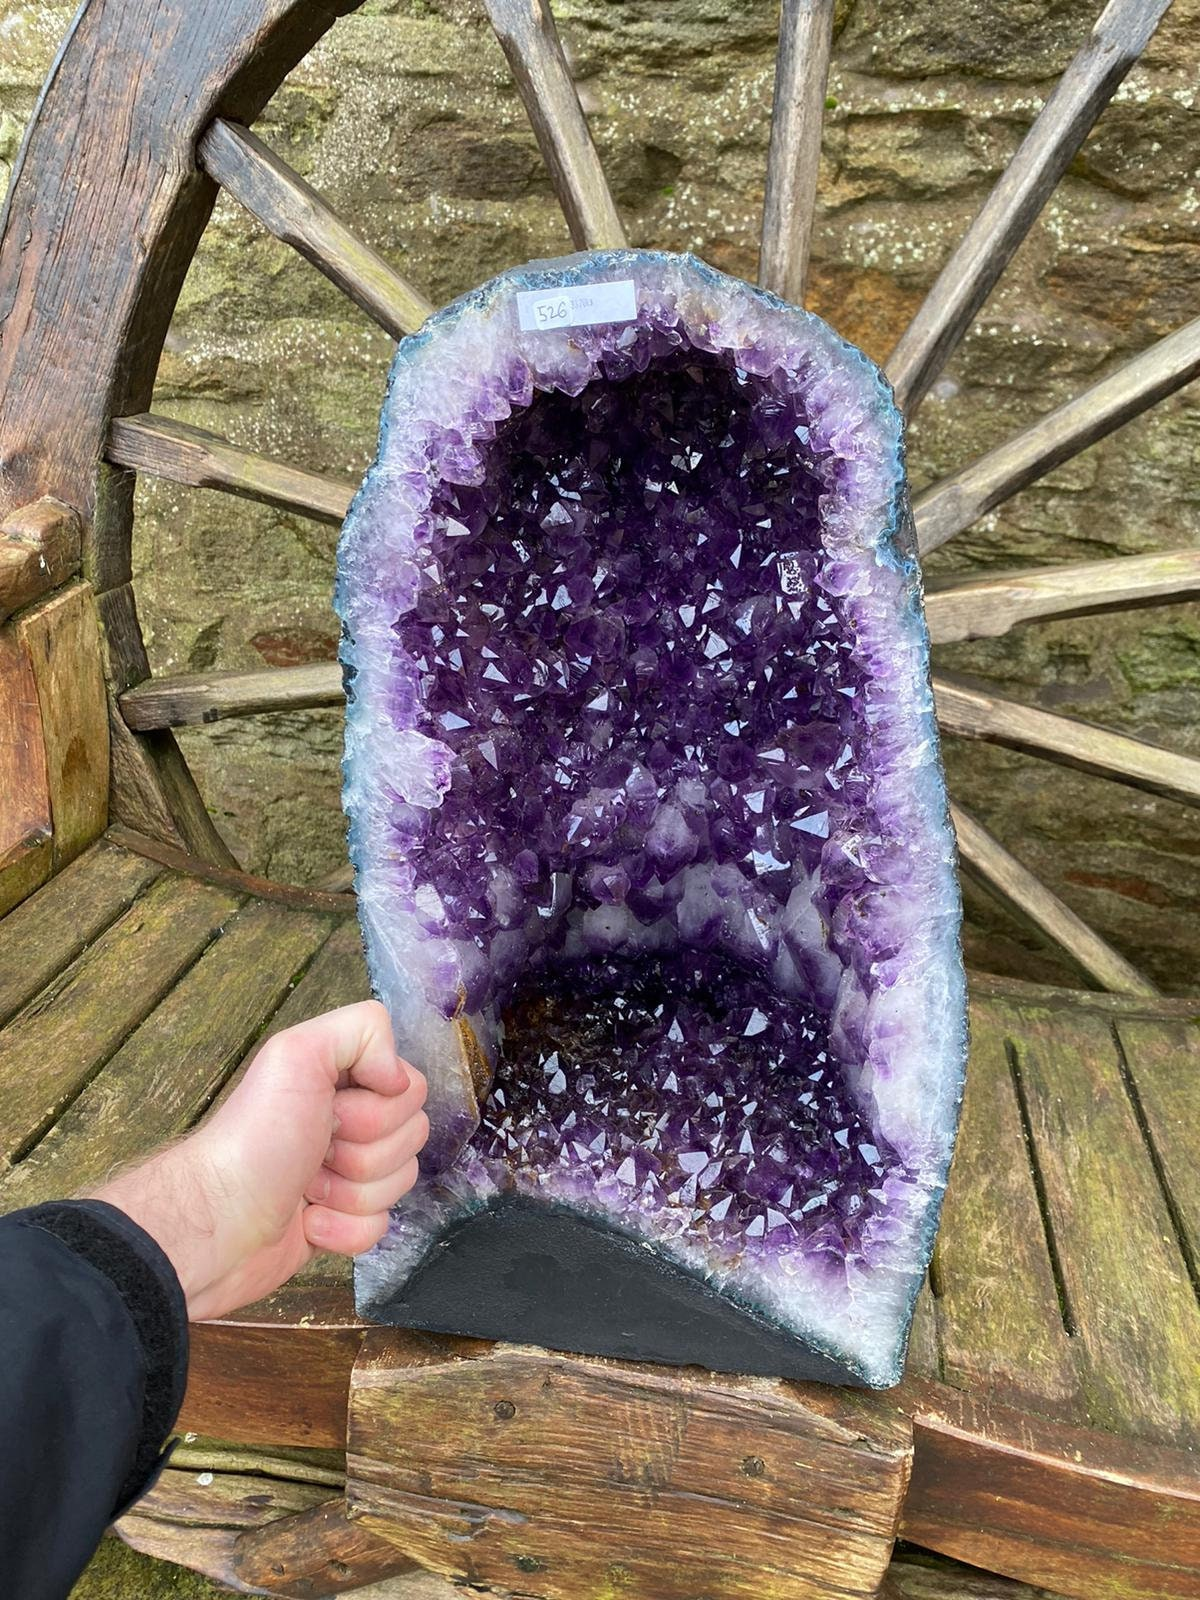Amethyst: (341, 247, 974, 1389)
